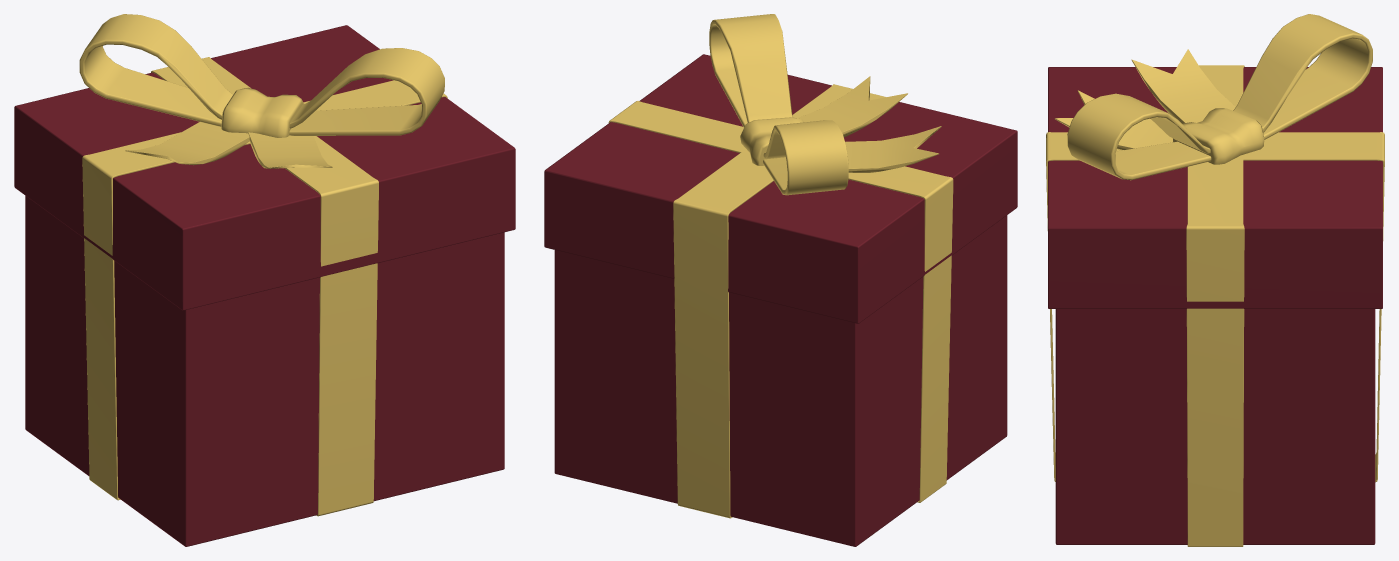
Rendered from geschenkbox.glb.
The picture shows the model from 3 angles, left to right: view 1: azimuth 30°, elevation 25°; view 2: azimuth 150°, elevation 25°; view 3: azimuth 270°, elevation 25°; orthographic projection. The views are drawn at different scales.
Parts seen in each view (by area): view 1: Box; view 2: Box; view 3: Box.
Part boxes in pixels (bbox=[...]): Box: bbox=[14, 14, 515, 546]; Box: bbox=[544, 14, 1017, 546]; Box: bbox=[1046, 14, 1384, 546].
Bounding box in the file's own units: 0.1711 × 0.1971 × 0.1503.
